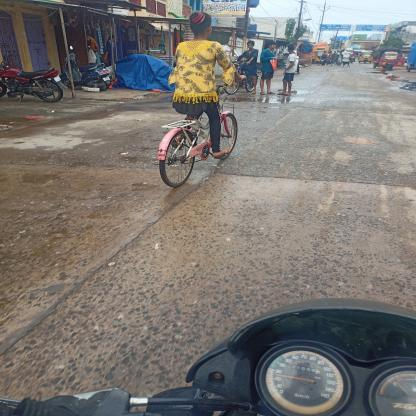bicycle: (129, 78, 262, 195)
